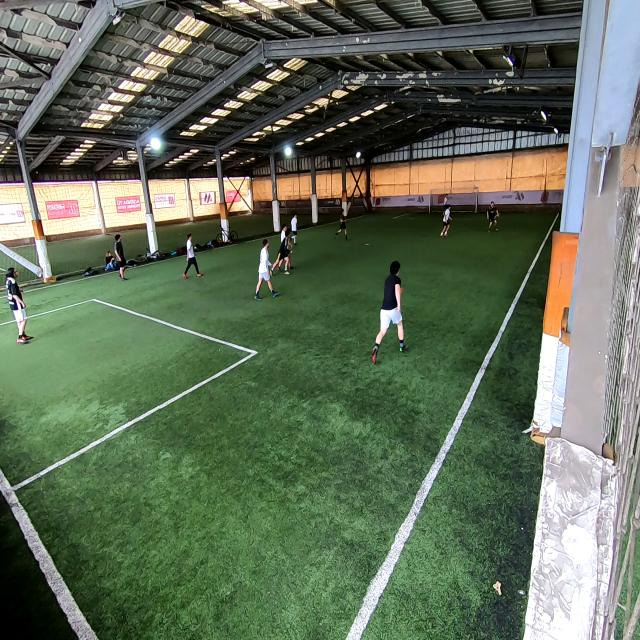BALON: (475, 184, 478, 188)
